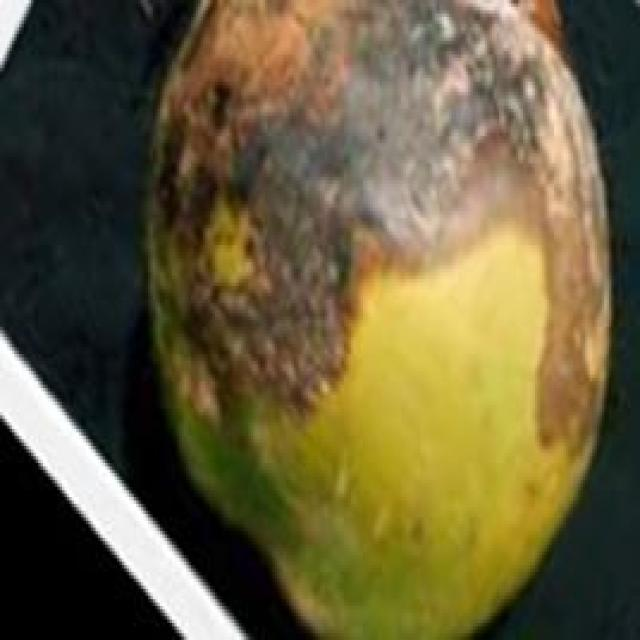damaged: (143, 0, 611, 637)
